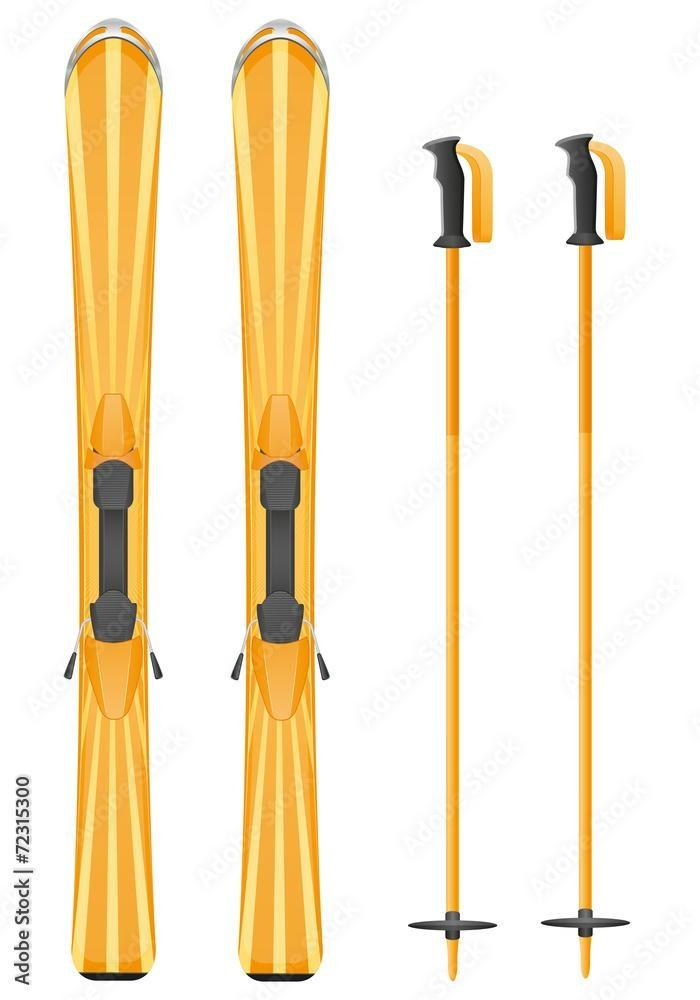Skis: (51, 18, 639, 1000)
